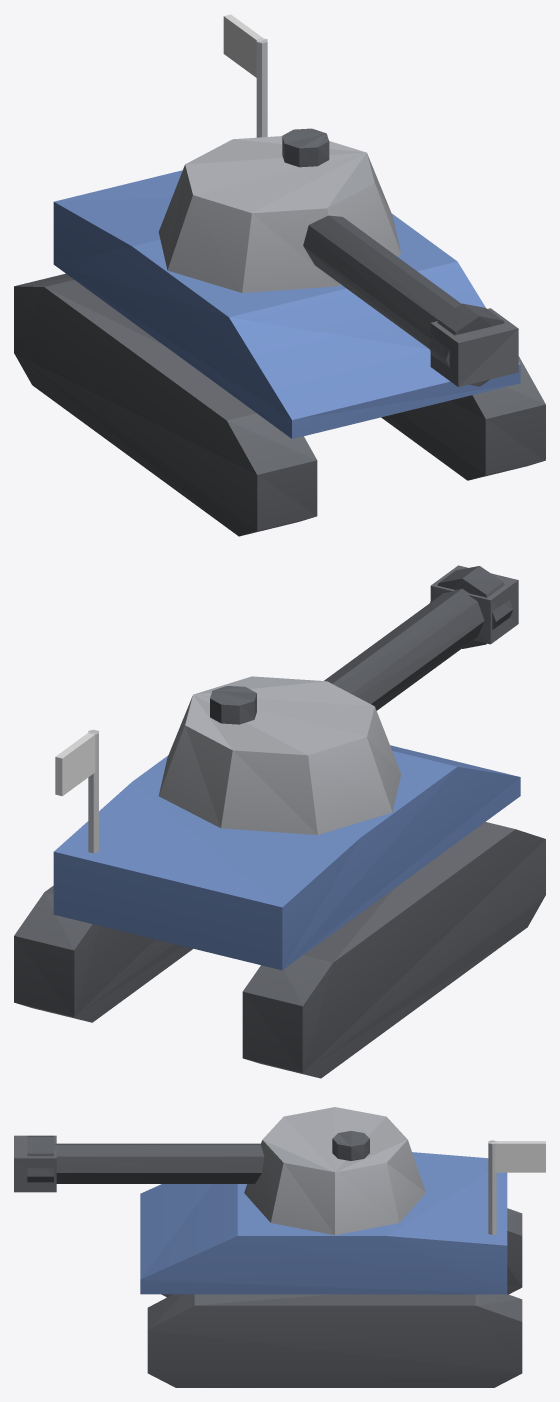
File: Tank.glb
3 views of the same model, one above another, from view 1: azimuth 30°, elevation 25°; view 2: azimuth 150°, elevation 25°; view 3: azimuth 270°, elevation 25° (orthographic). The views are drawn at different scales.
Visible parts, largest first — view 1: Body, Part1, Part2; view 2: Body, Part1, Part2; view 3: Body, Part1, Part2.
Boxes of the visible parts, x1=… form: Body: x1=14, y1=14, x2=545, y2=536; Part1: x1=158, y1=128, x2=400, y2=292; Part2: x1=303, y1=215, x2=504, y2=386; Body: x1=14, y1=565, x2=545, y2=1078; Part1: x1=159, y1=676, x2=401, y2=834; Part2: x1=324, y1=566, x2=513, y2=710; Body: x1=14, y1=1135, x2=545, y2=1387; Part1: x1=244, y1=1107, x2=425, y2=1235; Part2: x1=27, y1=1135, x2=264, y2=1183.
Size of the model in its own units: 0.48 by 0.46 by 0.994.
